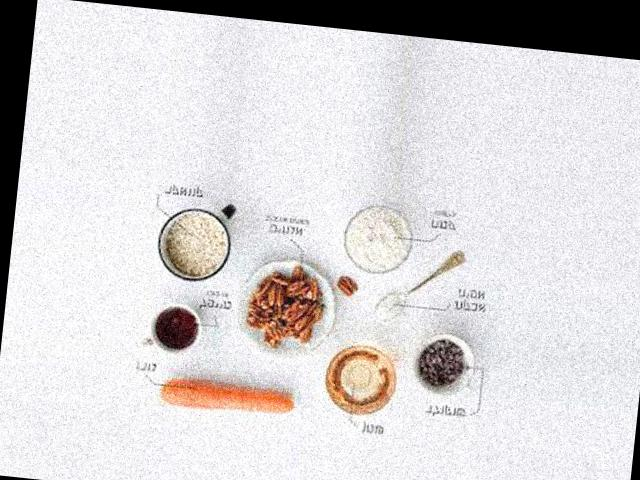carrot: (150, 363, 301, 423)
